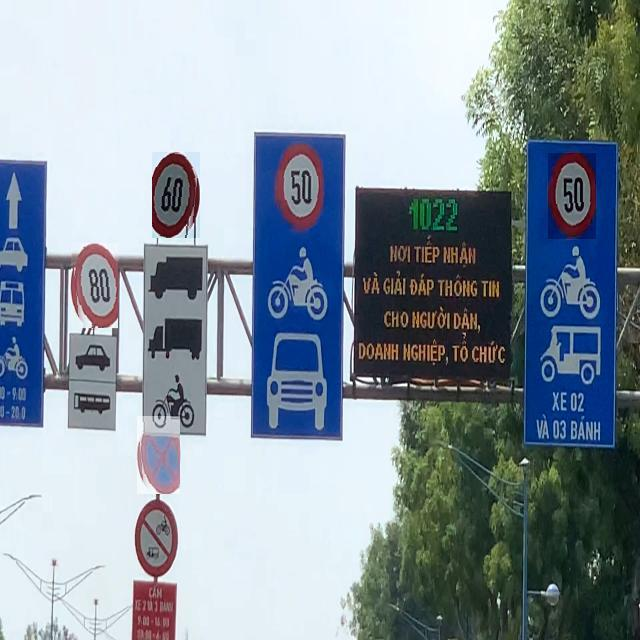P-127: (548, 153, 596, 239), (275, 145, 323, 231), (152, 152, 200, 238), (71, 244, 118, 330)
P-130: (137, 416, 180, 494)
